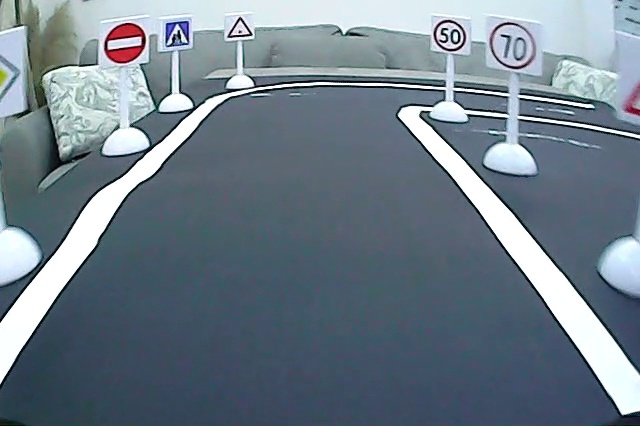do not enter: (102, 19, 148, 66)
green light: (223, 14, 254, 40)
school crossing: (163, 20, 192, 50)
speed limit 50: (432, 18, 469, 54)
speed limit 70: (490, 20, 539, 72)
